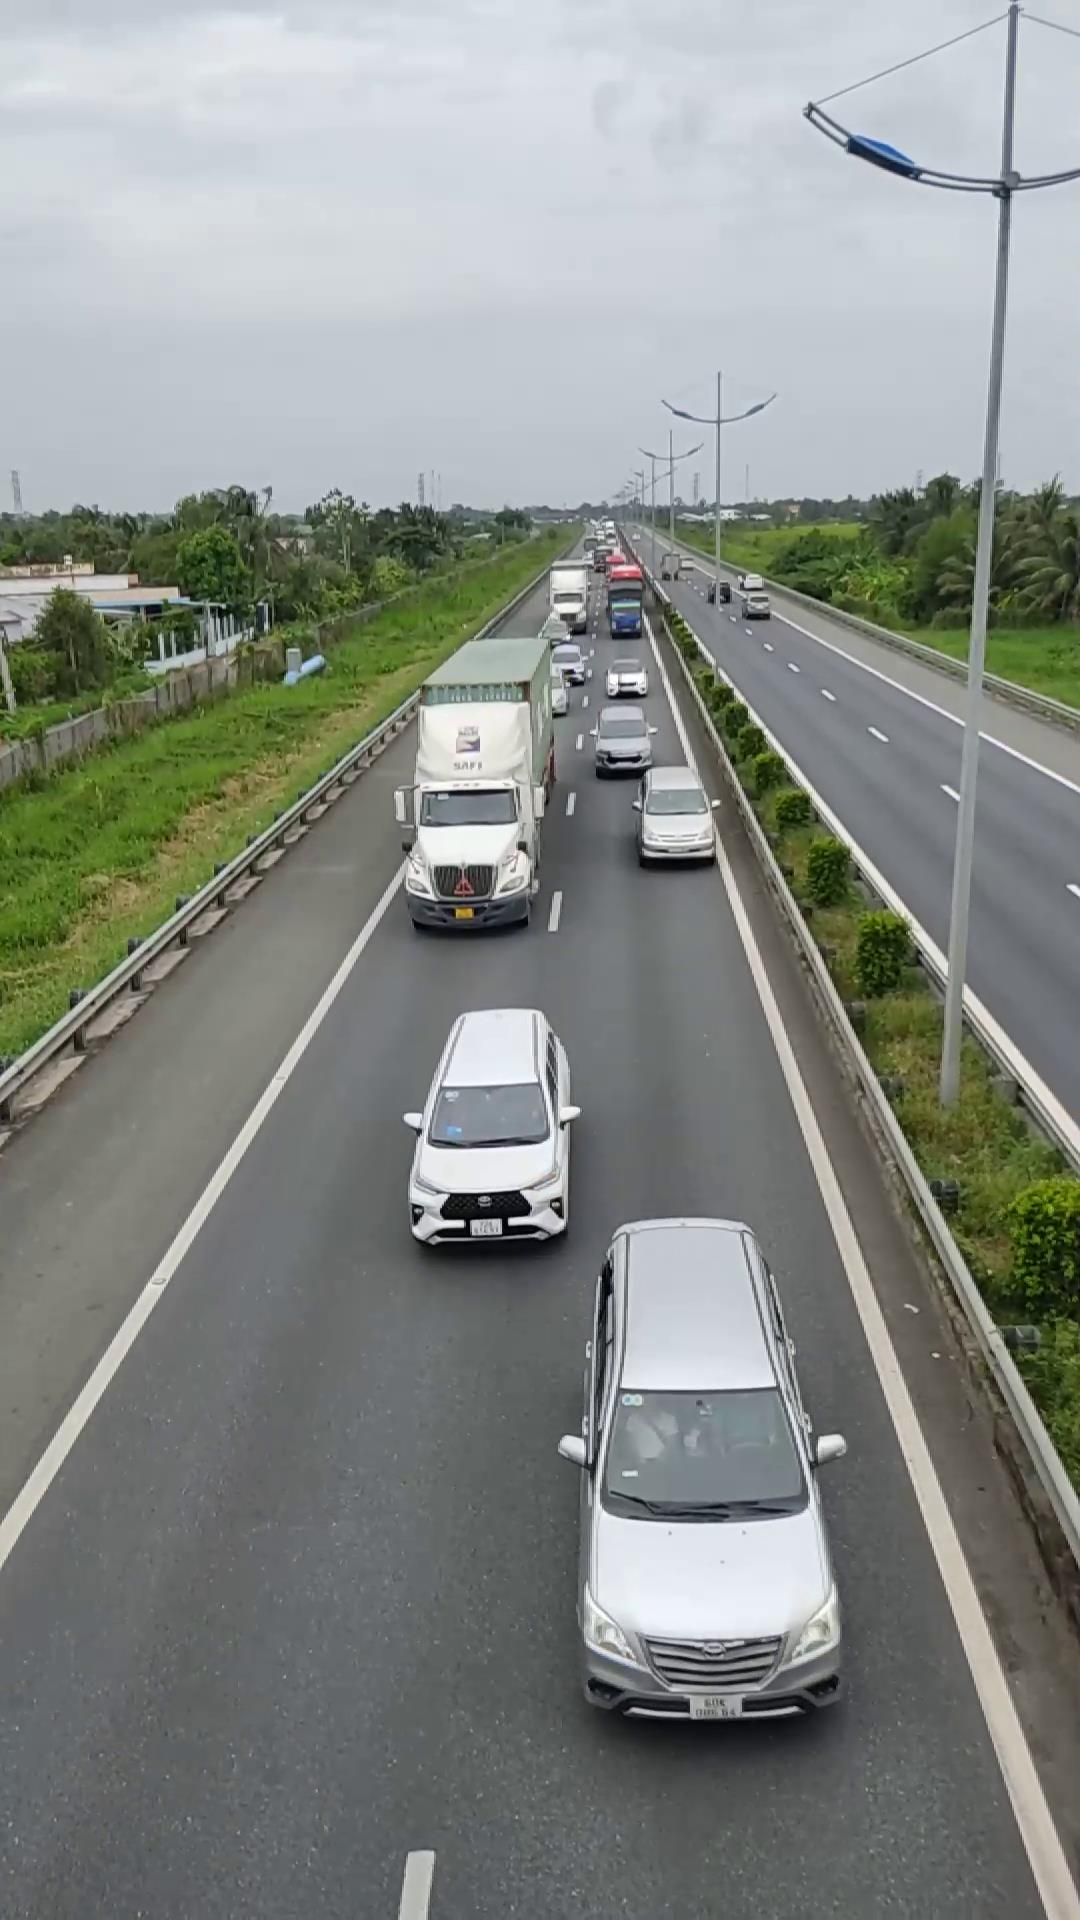car: (566, 1210, 846, 1723), (400, 1004, 580, 1251), (632, 764, 718, 866), (587, 712, 655, 776)
container: (400, 634, 556, 931)
